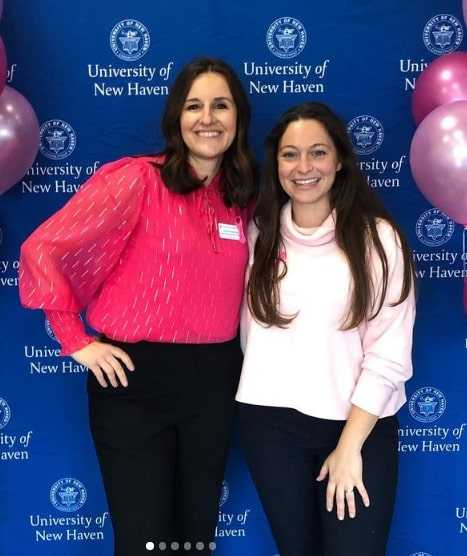Staff: (88, 30, 413, 378)
